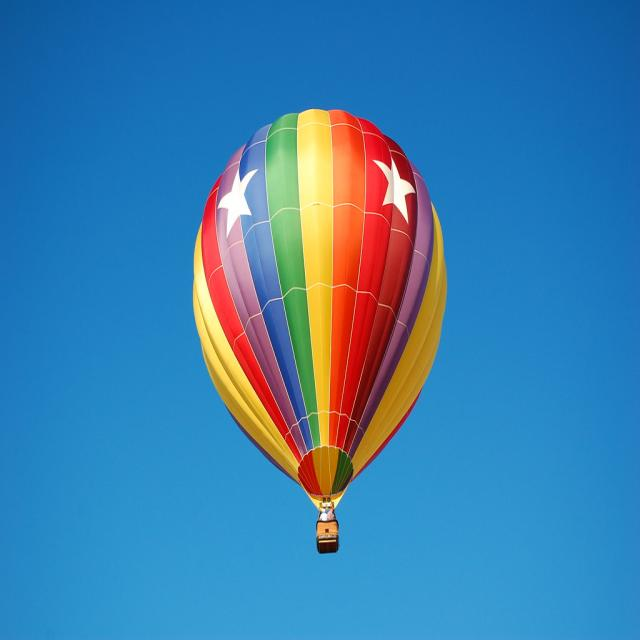balloon: (193, 107, 449, 555)
